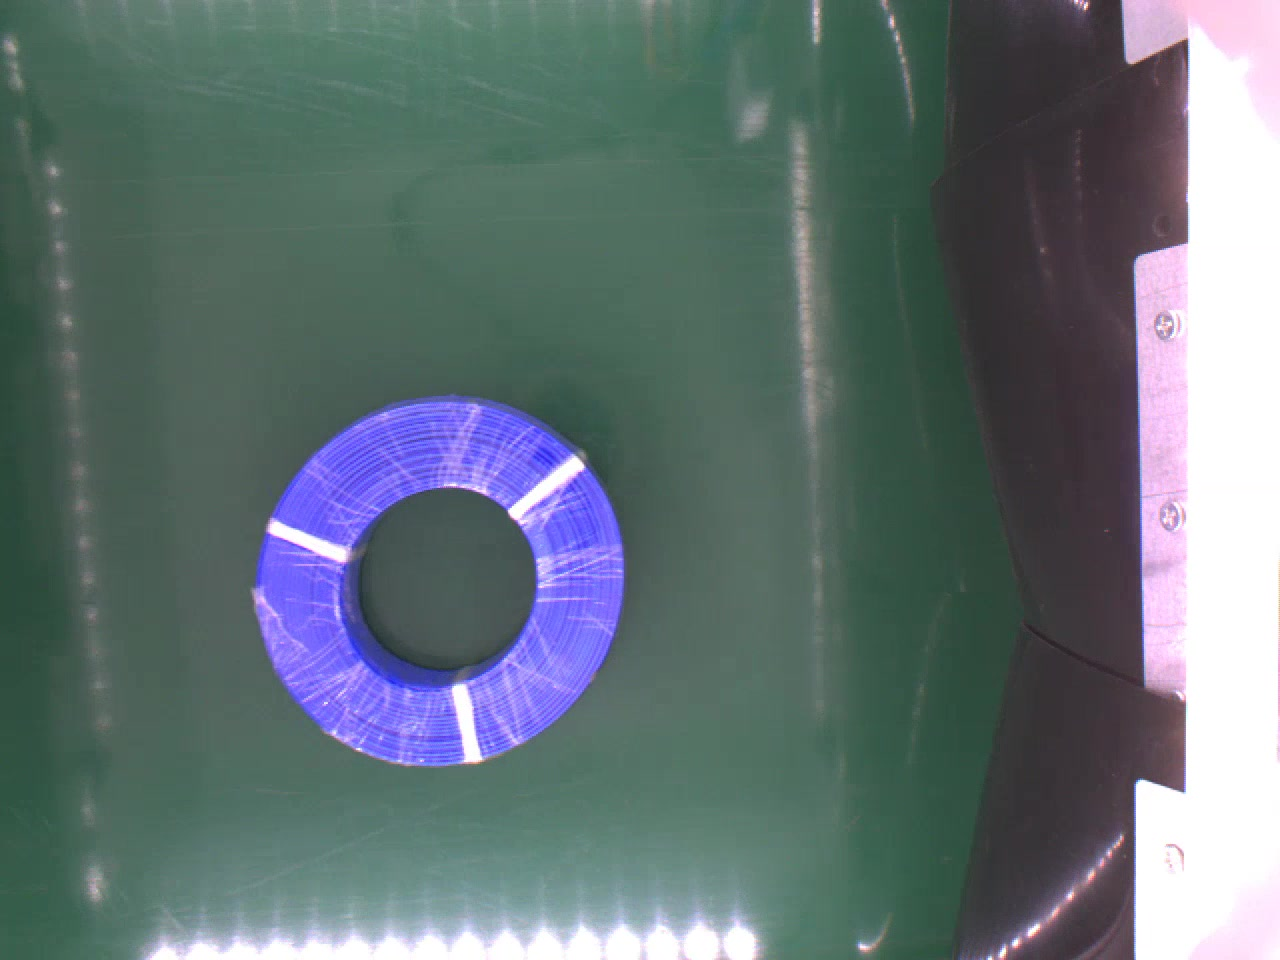blue: (251, 392, 630, 770)
